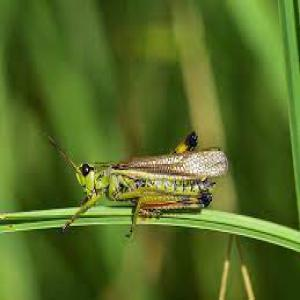locust: (36, 119, 240, 239)
